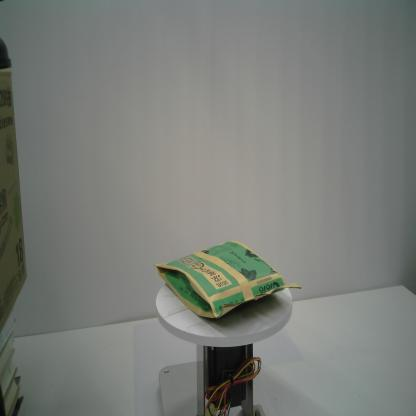Dried Food: (152, 239, 302, 320)
